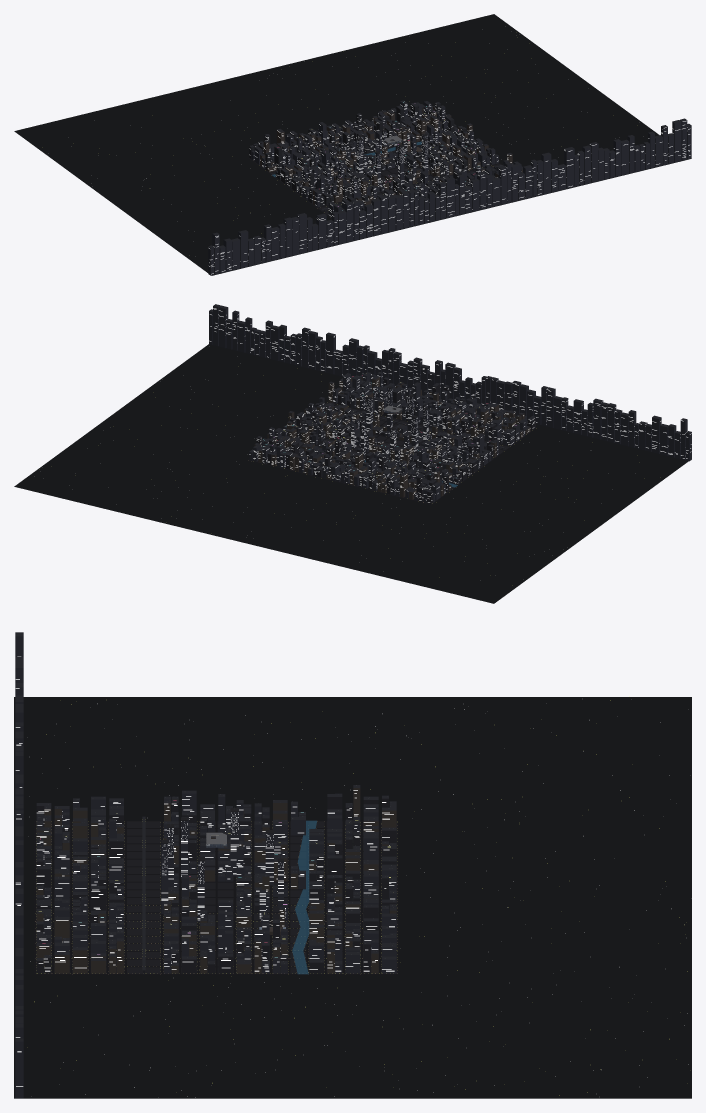
Rendered from InkboundMaps_Agency.fbx.
The picture shows the model from 3 angles, top to bottom: view 1: azimuth 30°, elevation 25°; view 2: azimuth 150°, elevation 25°; view 3: azimuth 270°, elevation 25°; orthographic projection. The views are drawn at different scales.
Parts seen in each view (by area): view 1: Map_Agency_CoreDark_7, Map_Agency_CoreDark_16, Map_Agency_CoreDark_6, Map_Agency_CoreDark_13, Map_Agency_CoreDark_17, Map_Agency_CoreDark_10, Map_Agency_CityFacade_10, Map_Agency_CityFacade_13, Map_Agency_CityFacade_7, Map_Agency_CoreDark_14, Map_Agency_CoreDark_8, Map_Agency_CityFacade_5 (+27 smaller); view 2: Map_Agency_CoreDark_7, Map_Agency_CoreDark_13, Map_Agency_CoreDark_16, Map_Agency_CoreDark_6, Map_Agency_CityFacade_11, Map_Agency_CoreDark_17, Map_Agency_CoreDark_10, Map_Agency_CoreDark_15, Map_Agency_CityFacade_8, Map_Agency_CoreDark_5, Map_Agency_CityRoof_10, Map_Agency_CoreDark_14 (+30 smaller); view 3: Map_Agency_CoreDark_7, Map_Agency_CoreDark_13, Map_Agency_CoreDark_6, Map_Agency_CoreDark_16, Map_Agency_CoreDark_5, Map_Agency_CoreDark_10, Map_Agency_CoreDark_17, Map_Agency_CoreDark_15, Map_Agency_CoreDark_14, Map_Agency_CoreDark_8, Map_Agency_CoreDark_21, Map_Agency_CoreDark_2 (+32 smaller).
Boxes of the visible parts, bbox=[...] form: Map_Agency_CoreDark_7: bbox=[382, 42, 550, 109]; Map_Agency_CoreDark_16: bbox=[149, 158, 307, 225]; Map_Agency_CoreDark_6: bbox=[445, 89, 590, 155]; Map_Agency_CoreDark_13: bbox=[184, 90, 343, 159]; Map_Agency_CoreDark_17: bbox=[99, 117, 240, 179]; Map_Agency_CoreDark_10: bbox=[297, 69, 424, 124]; Map_Agency_CityFacade_10: bbox=[351, 178, 454, 240]; Map_Agency_CityFacade_13: bbox=[252, 203, 353, 264]; Map_Agency_CityFacade_7: bbox=[455, 154, 551, 215]; Map_Agency_CoreDark_14: bbox=[155, 69, 295, 117]; Map_Agency_CoreDark_8: bbox=[353, 21, 493, 69]; Map_Agency_CityFacade_5: bbox=[551, 136, 649, 192]; Map_Agency_CoreDark_7: bbox=[71, 431, 240, 500]; Map_Agency_CoreDark_13: bbox=[269, 479, 437, 548]; Map_Agency_CoreDark_16: bbox=[432, 461, 590, 528]; Map_Agency_CoreDark_6: bbox=[149, 392, 297, 459]; Map_Agency_CityFacade_11: bbox=[401, 364, 545, 465]; Map_Agency_CoreDark_17: bbox=[381, 507, 522, 568]; Map_Agency_CoreDark_10: bbox=[184, 458, 324, 520]; Map_Agency_CoreDark_15: bbox=[493, 427, 635, 484]; Map_Agency_CityFacade_8: bbox=[306, 340, 444, 436]; Map_Agency_CoreDark_5: bbox=[210, 351, 342, 413]; Map_Agency_CityRoof_10: bbox=[341, 434, 482, 504]; Map_Agency_CoreDark_14: bbox=[240, 521, 380, 569]; Map_Agency_CoreDark_7: bbox=[398, 980, 593, 1074]; Map_Agency_CoreDark_13: bbox=[398, 815, 593, 909]; Map_Agency_CoreDark_6: bbox=[190, 975, 398, 1057]; Map_Agency_CoreDark_16: bbox=[190, 738, 398, 820]; Map_Agency_CoreDark_5: bbox=[14, 975, 190, 1074]; Map_Agency_CoreDark_10: bbox=[398, 909, 593, 980]; Map_Agency_CoreDark_17: bbox=[398, 744, 593, 814]; Map_Agency_CoreDark_15: bbox=[14, 738, 190, 820]; Map_Agency_CoreDark_14: bbox=[594, 815, 691, 909]; Map_Agency_CoreDark_8: bbox=[594, 980, 691, 1074]; Map_Agency_CoreDark_21: bbox=[398, 697, 593, 743]; Map_Agency_CoreDark_2: bbox=[190, 1057, 398, 1098].
Size of the model in its own units: 6809 by 560 by 4851.
53 materials, 14 textured.
